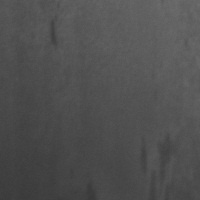inclusion: (135, 130, 179, 198), (44, 11, 64, 54)
